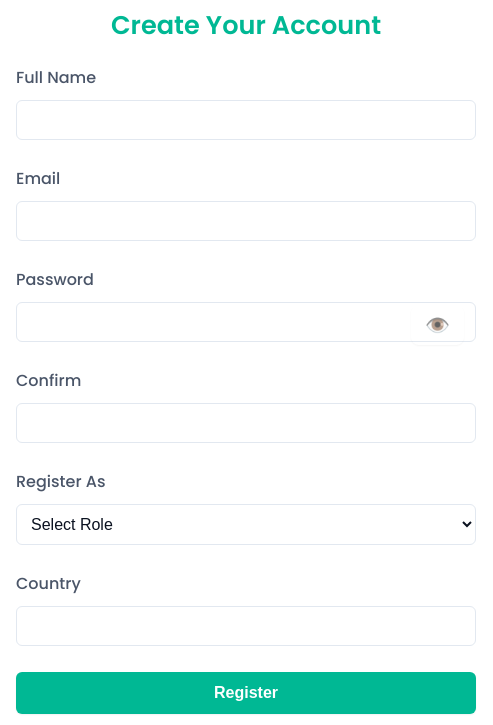
it: validates password strength (if applied)
Type "123" into the password field labelled "Password". click: (246, 322)
box: [16,302,476,342]
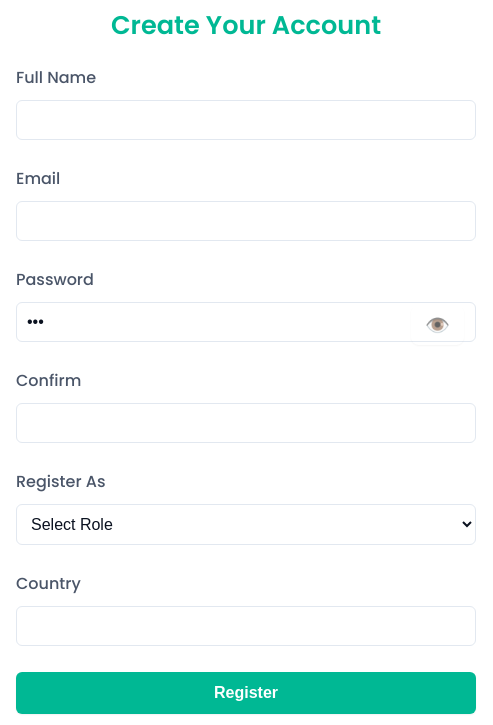
Click the button "Register". click: (246, 693)
box: [16,672,476,714]
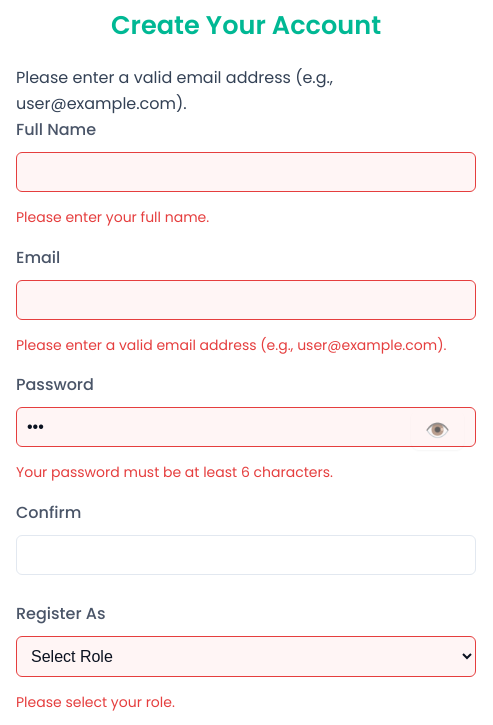
Expected: the text "Your password must be at least 6 characters." is shown, [16,462,333,482]
